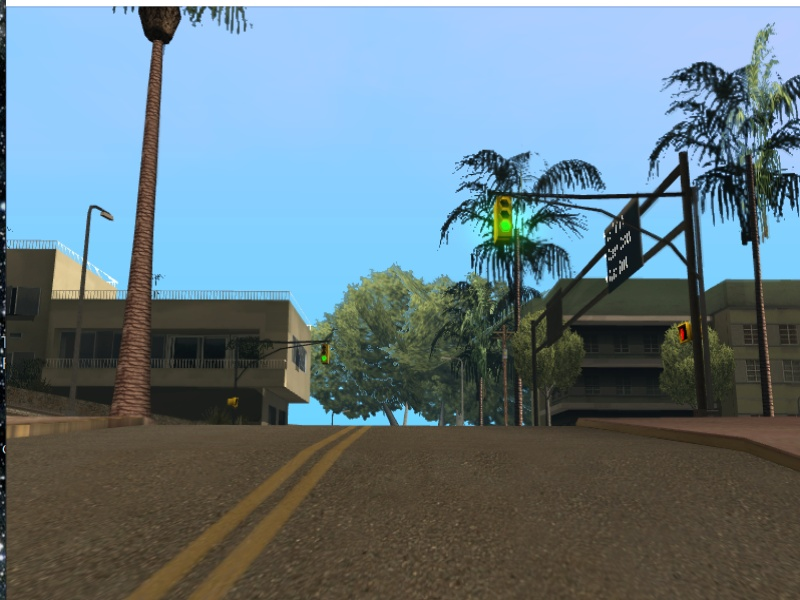pole: (677, 162, 721, 418), (63, 217, 91, 412)
tree: (120, 58, 156, 426)
